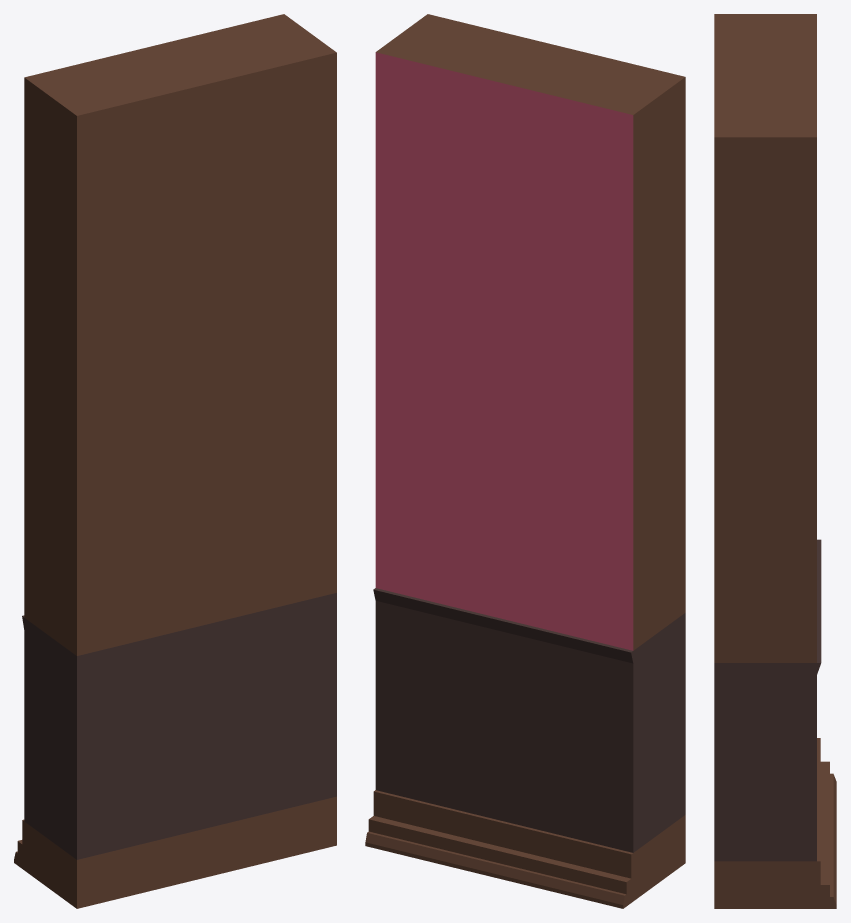
Rendered from wall_2.fbx.
3 renders of one model, left to right at view 1: azimuth 30°, elevation 25°; view 2: azimuth 150°, elevation 25°; view 3: azimuth 270°, elevation 25°, orthographic. The views are drawn at different scales.
Visible parts, largest first — view 1: Wall_2; view 2: Wall_2; view 3: Wall_2.
Boxes of the visible parts, <box> form: Wall_2: <box>14,14,336,908</box>; Wall_2: <box>365,14,685,908</box>; Wall_2: <box>714,14,836,908</box>.
Bounding box in the file's own units: 200 × 583 × 83.79.
